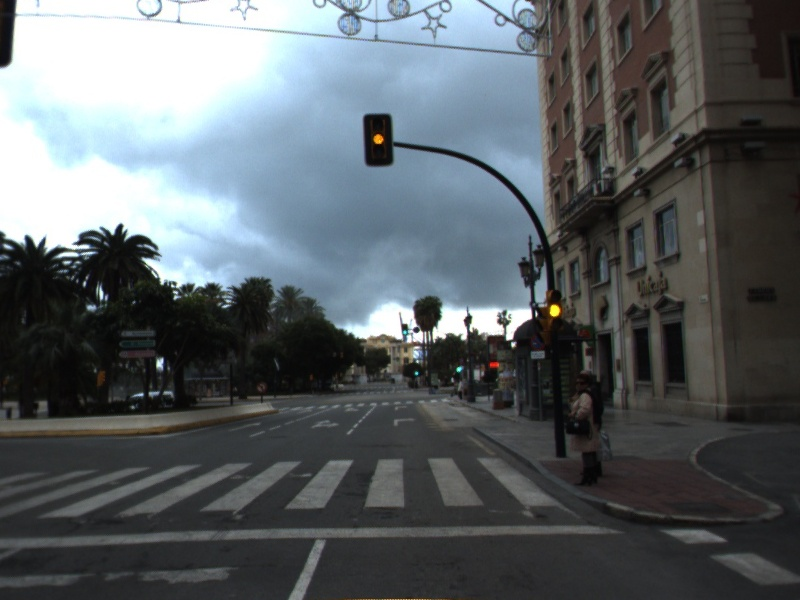RIGHT: (391, 415, 419, 428)
STRAIGHT: (226, 420, 262, 433)
STRAIGHT_RIGHT: (308, 417, 342, 431)
